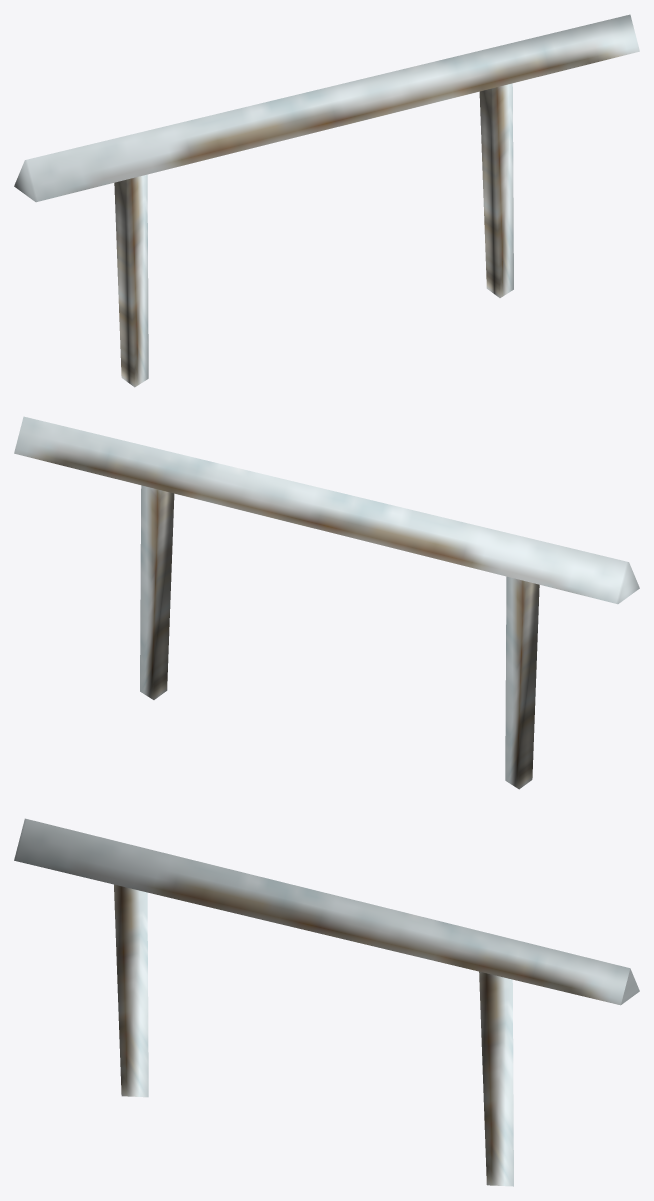
3 views of the same model, one above another, from view 1: azimuth 30°, elevation 25°; view 2: azimuth 150°, elevation 25°; view 3: azimuth 330°, elevation 25° (orthographic).
Visible parts, largest first — view 1: a121; view 2: a121; view 3: a121.
Part boxes in pixels (x1=…): a121: x1=14, y1=14, x2=639, y2=387; a121: x1=14, y1=416, x2=639, y2=789; a121: x1=14, y1=818, x2=639, y2=1186.
Size of the model in its own units: 591 by 232 by 36.87.
